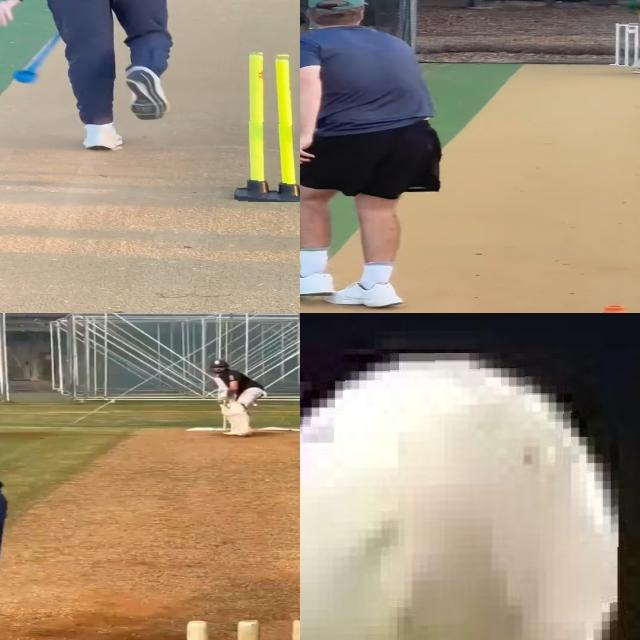Cricket ball: (300, 352, 625, 640), (625, 26, 639, 34)
Stumps: (233, 50, 300, 202), (613, 21, 640, 66)
